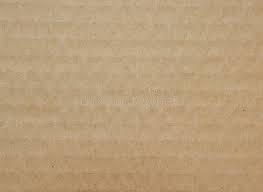Cardboard: (2, 4, 263, 192)
